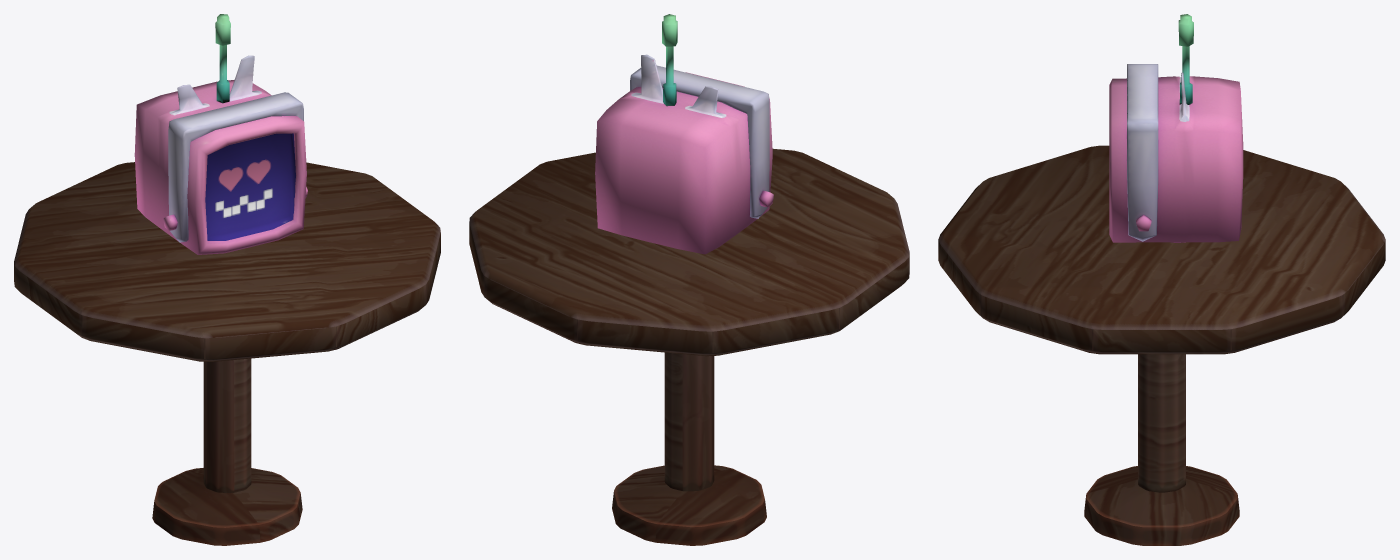
3 renders of one model, left to right at view 1: azimuth 30°, elevation 25°; view 2: azimuth 150°, elevation 25°; view 3: azimuth 270°, elevation 25°, orthographic. The views are drawn at different scales.
Visible parts, largest first — view 1: Cylinder.004, Cylinder.011; view 2: Cylinder.004, Cylinder.011; view 3: Cylinder.004, Cylinder.011.
Boxes of the visible parts, bbox=[...] form: Cylinder.004: bbox=[14, 162, 440, 545]; Cylinder.011: bbox=[134, 14, 307, 254]; Cylinder.004: bbox=[469, 148, 909, 545]; Cylinder.011: bbox=[595, 14, 773, 254]; Cylinder.004: bbox=[938, 145, 1385, 545]; Cylinder.011: bbox=[1109, 14, 1243, 242].
Size of the model in its own units: 149 by 193 by 156.
Materials: 1 (1 with a texture image).
